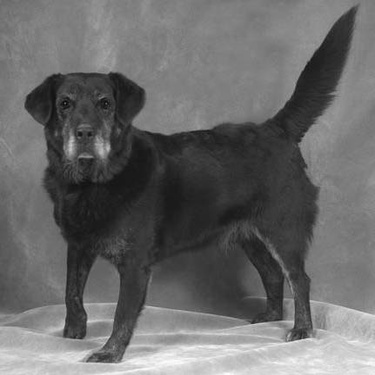dog: (21, 1, 361, 364)
